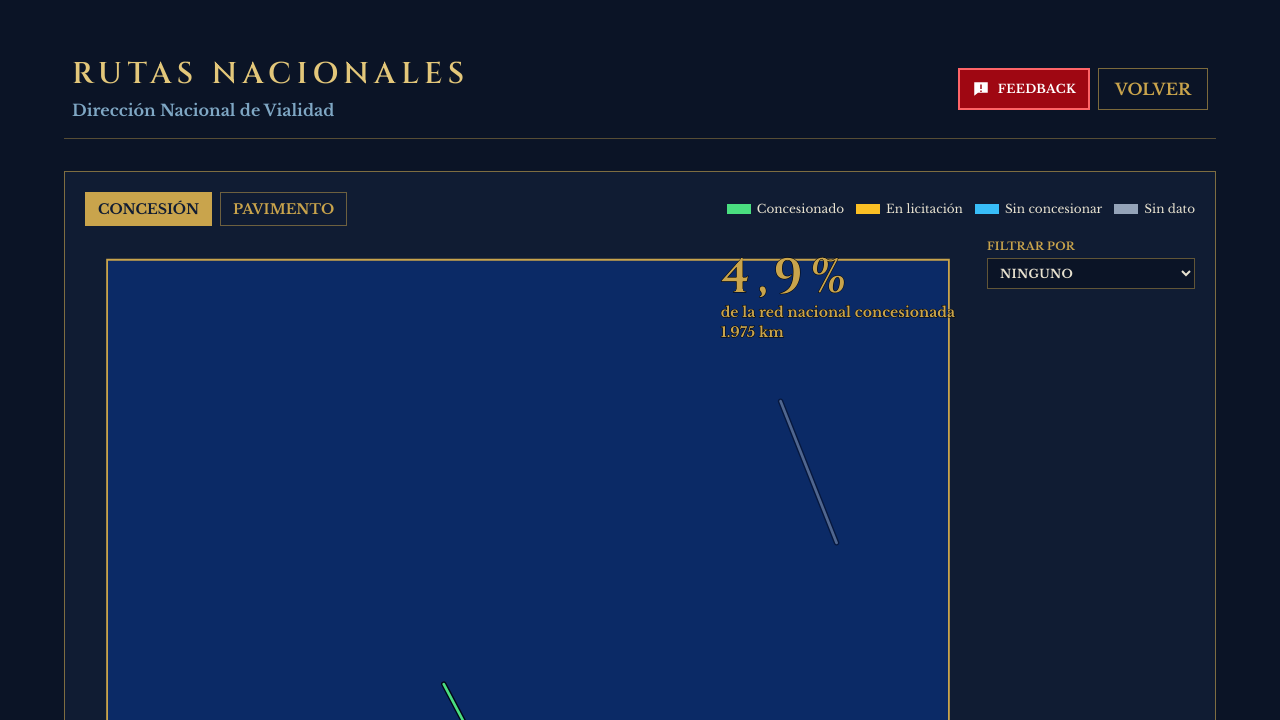
Test: shows a big concessioned-share figure only in the unfiltered concession view
The image size is (1280, 720).
Check: the element with test id "concession-share" reads "4,9% de la red nacional concesionada 1.975 km", box [721, 244, 855, 310]
Select "Ruta" in the dropdown labelled "Filtrar por" at (1091, 274), box [987, 258, 1195, 289]
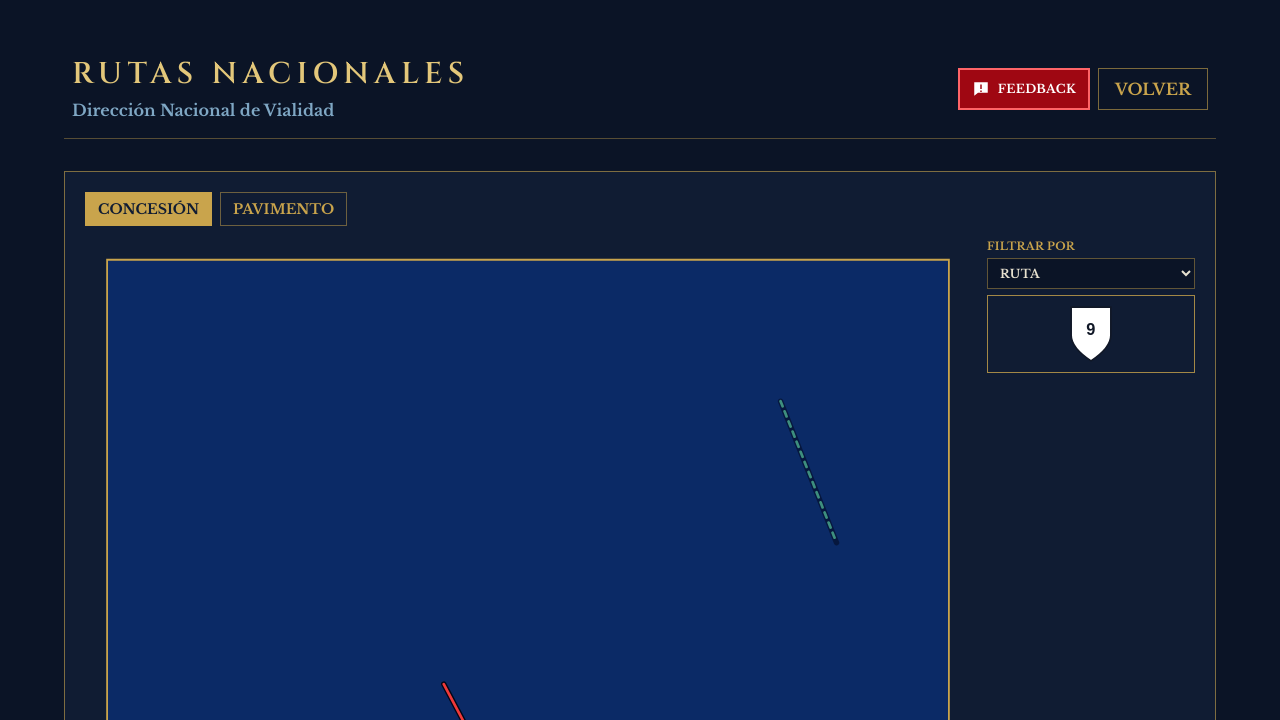
Check: the element with test id "concession-share" is gone
